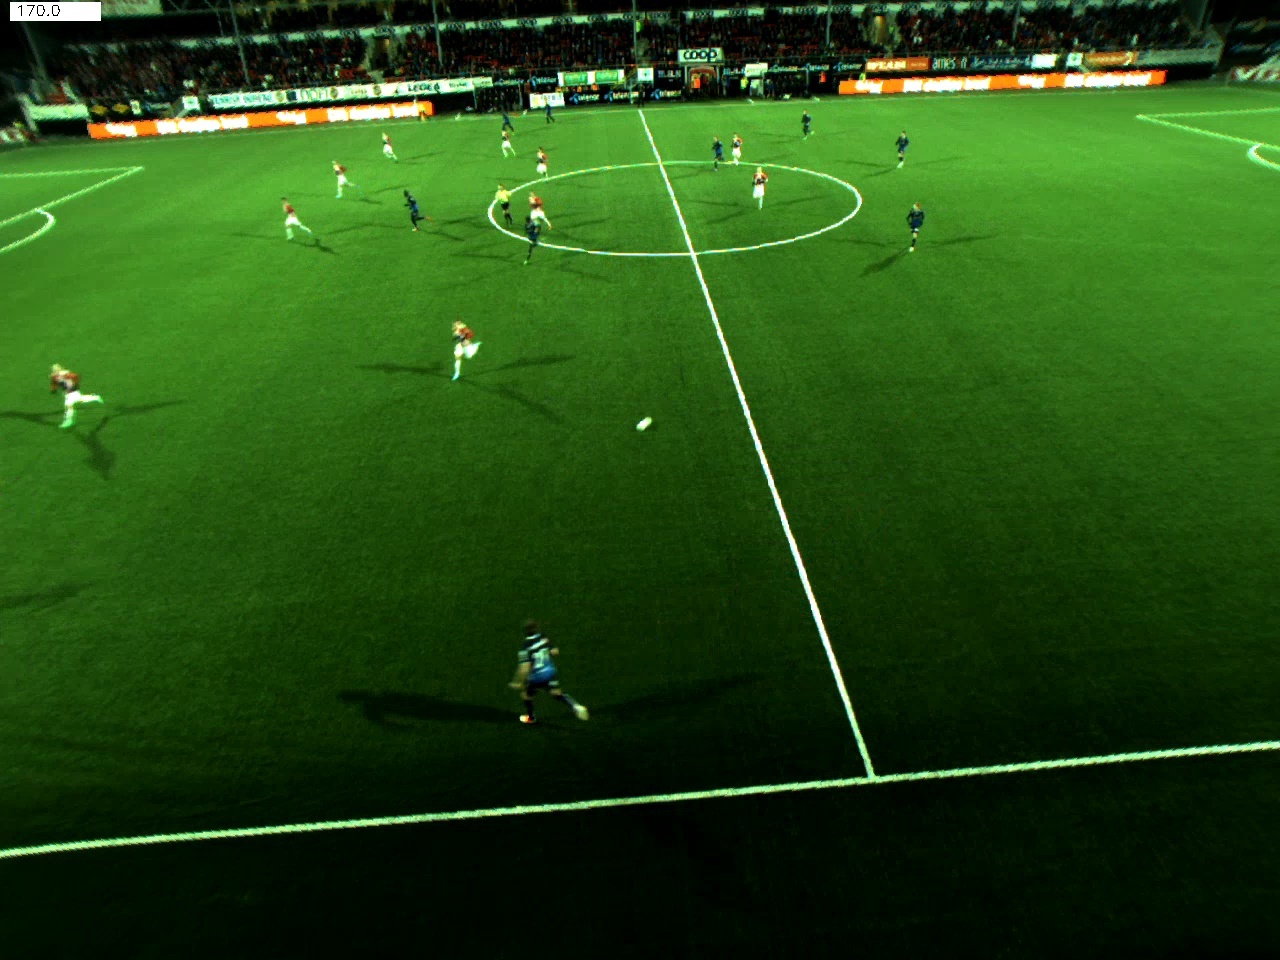blue: (503, 612, 591, 734), (903, 195, 933, 263), (395, 187, 434, 235), (520, 214, 549, 268), (888, 121, 914, 176), (795, 109, 820, 141), (492, 110, 522, 135), (537, 103, 561, 127), (709, 135, 727, 166)
red: (43, 353, 107, 434), (447, 322, 487, 385), (278, 194, 316, 247), (520, 186, 560, 228), (326, 156, 357, 196), (375, 131, 402, 169), (496, 128, 521, 165), (752, 162, 768, 213), (531, 145, 553, 181), (730, 126, 747, 170)
